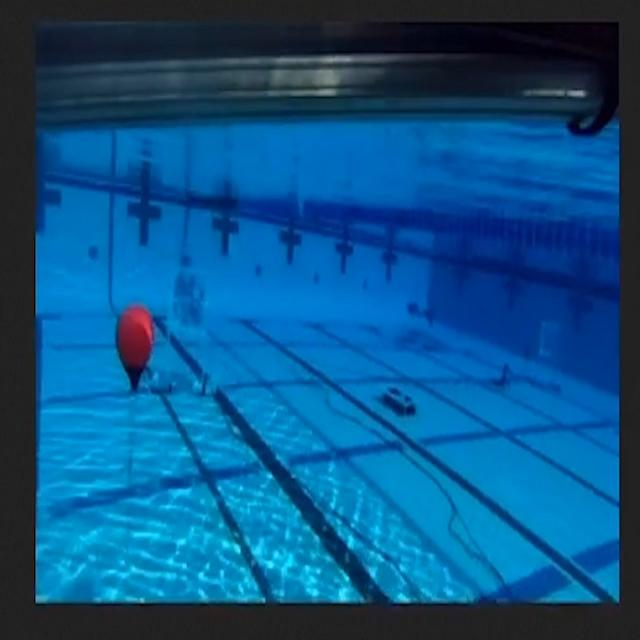Buoy: (114, 303, 154, 399)
